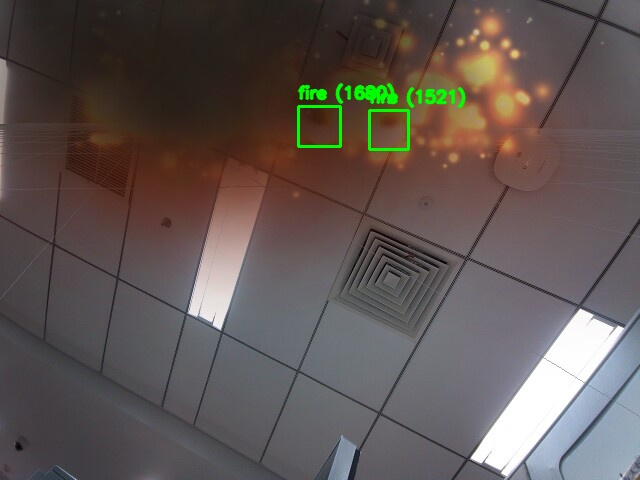fire: (298, 106, 340, 146), (369, 110, 408, 149)
